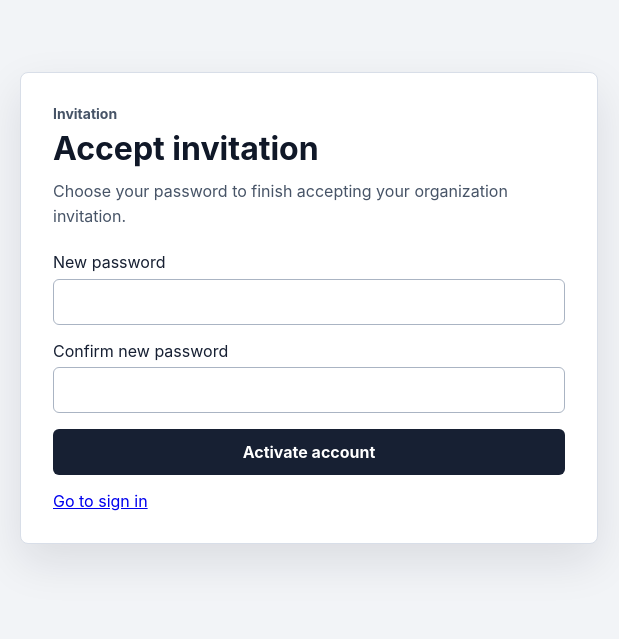
shows invalid invitations generically without echoing the token
Type "StrongPass123!" into the password field labelled "New password" at [309, 302], box [53,279,565,325]
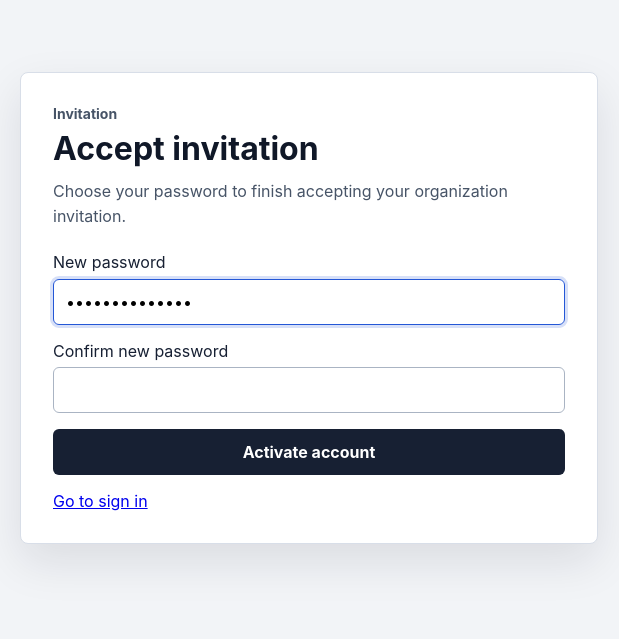
Type "StrongPass123!" into the password field labelled "Confirm new password" at [309, 390], box [53,367,565,413]
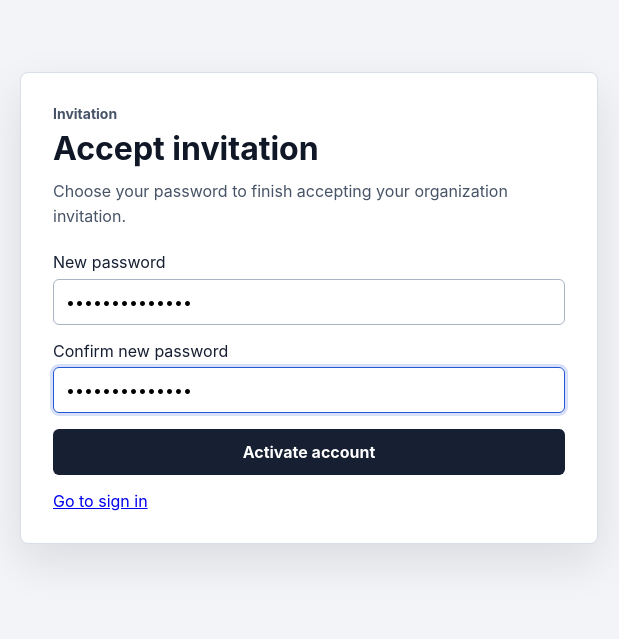
Click the button "Activate account" at [309, 452], box [53,429,565,475]
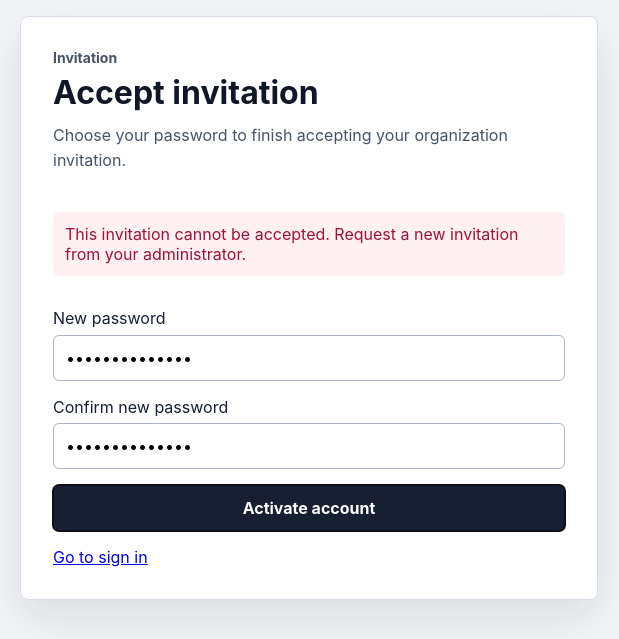
Expected: the message shows "Request a new invitation", [65,224,518,264]
